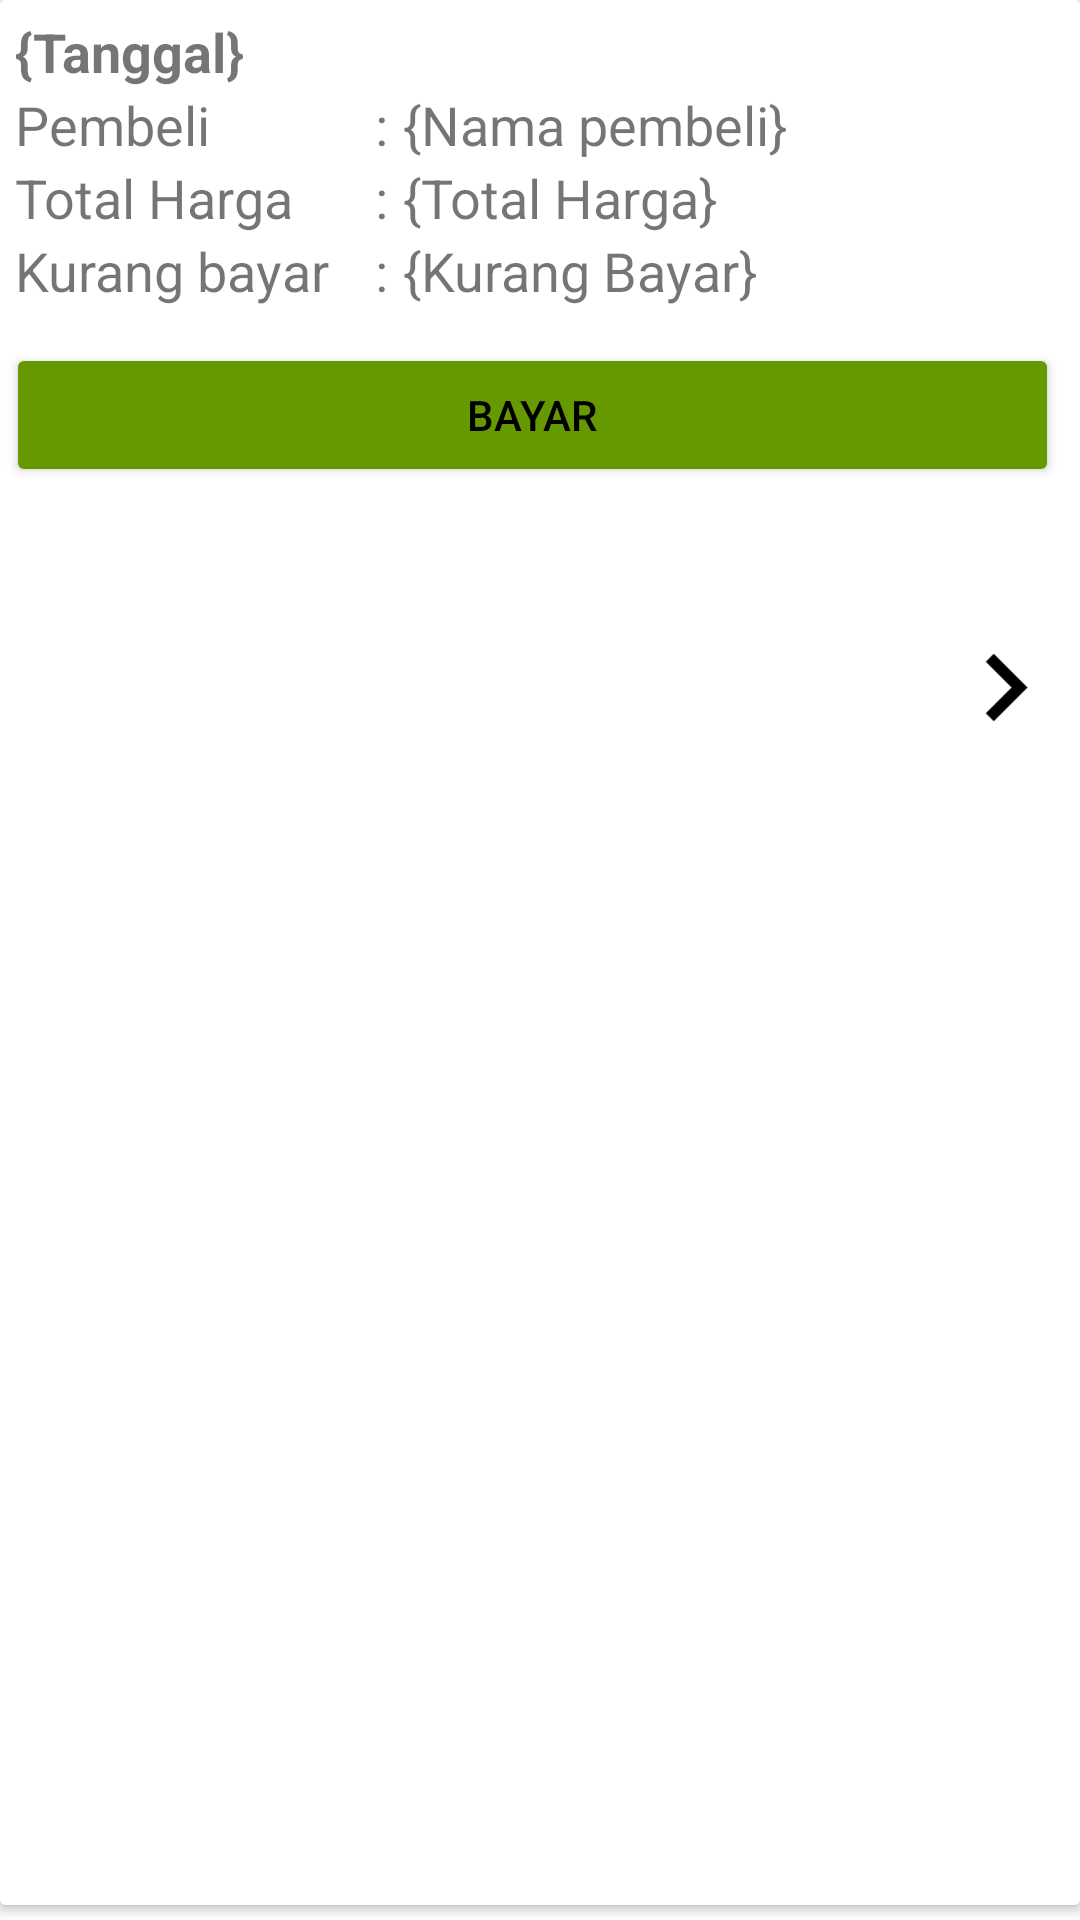

Icons on this 1080 × 1920 Android screen, each with its box as detection(x1, y1, x2, y2):
navigate next: detection(985, 654, 1028, 721)
